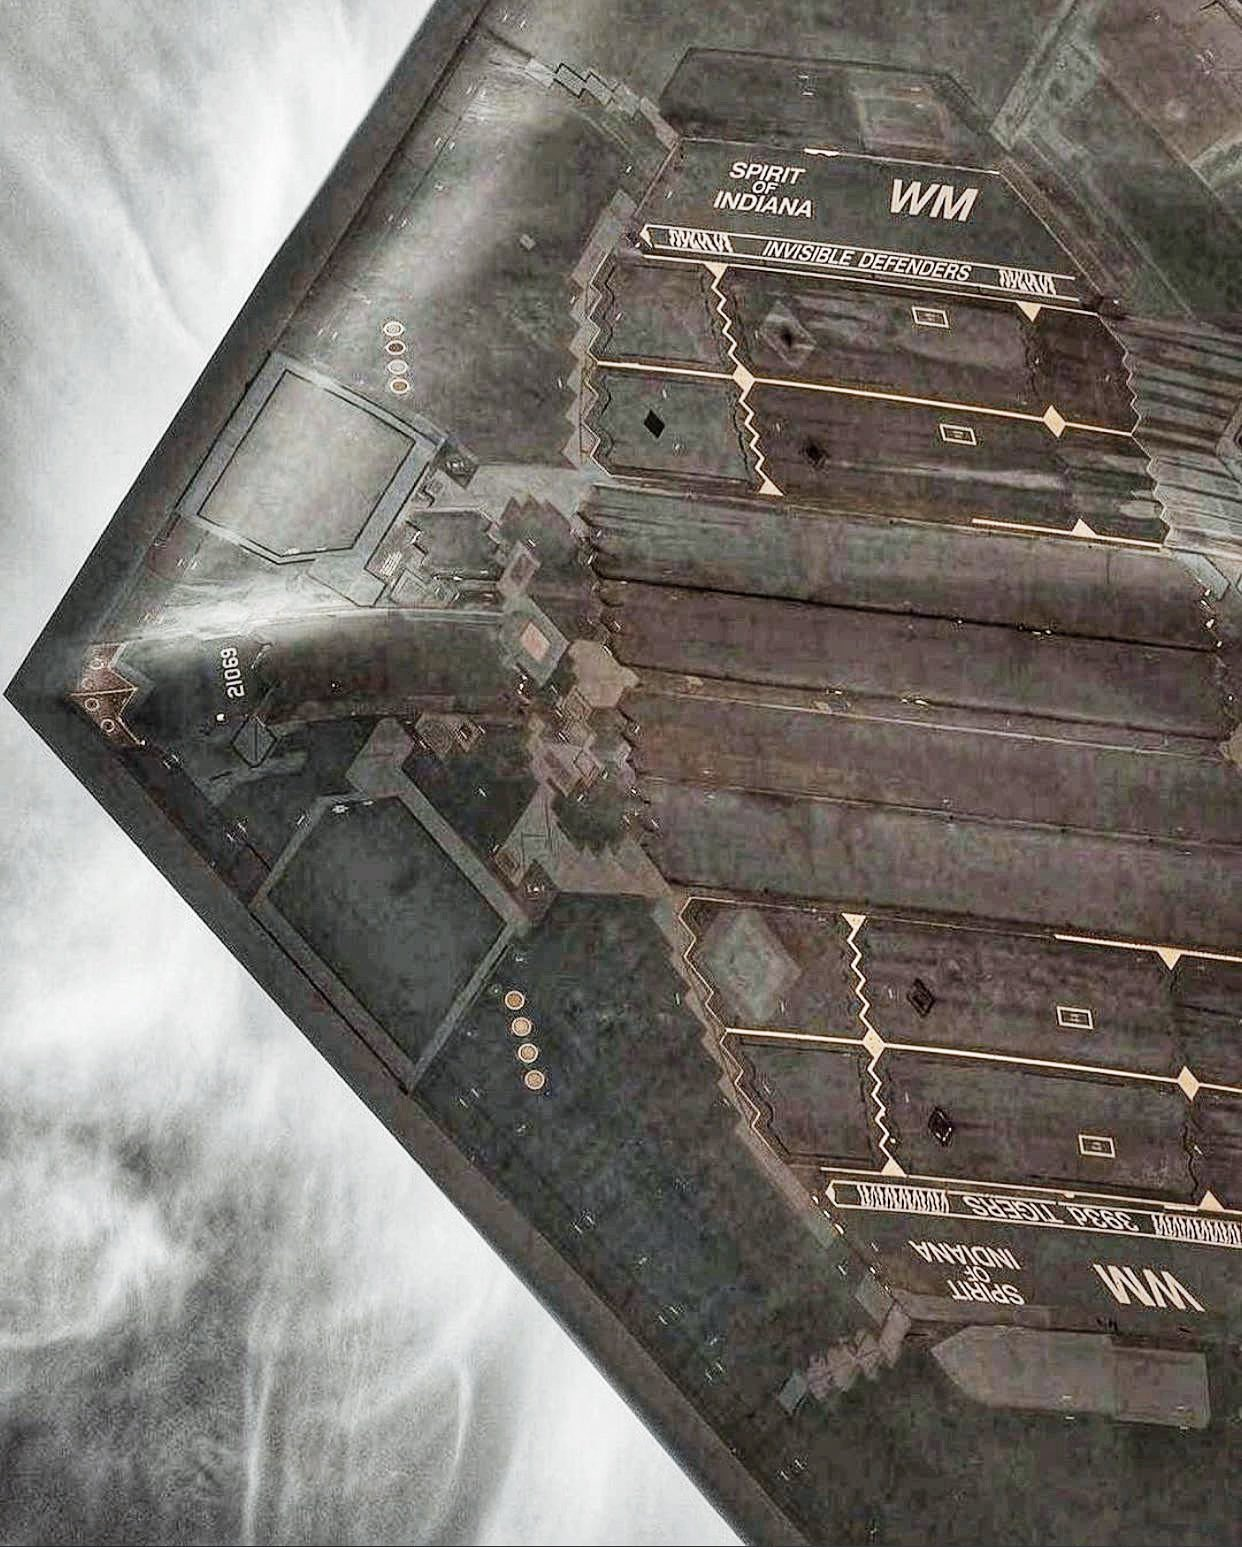B2: (1, 1, 1242, 1547)
